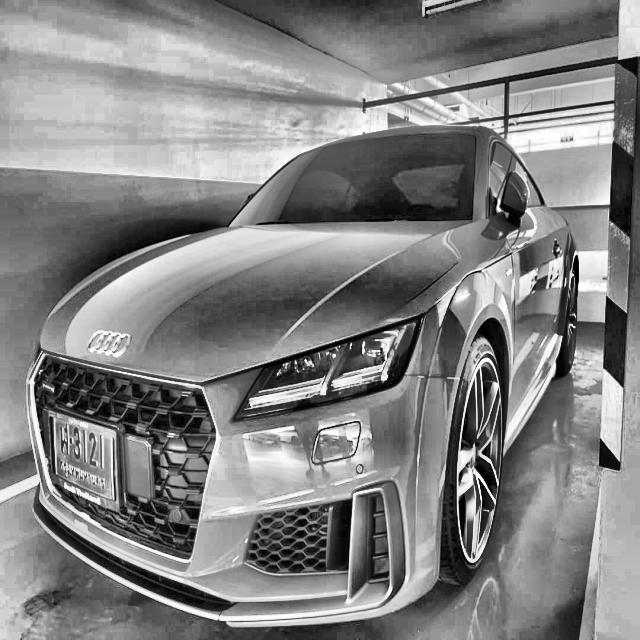license-plate: (43, 405, 122, 519)
